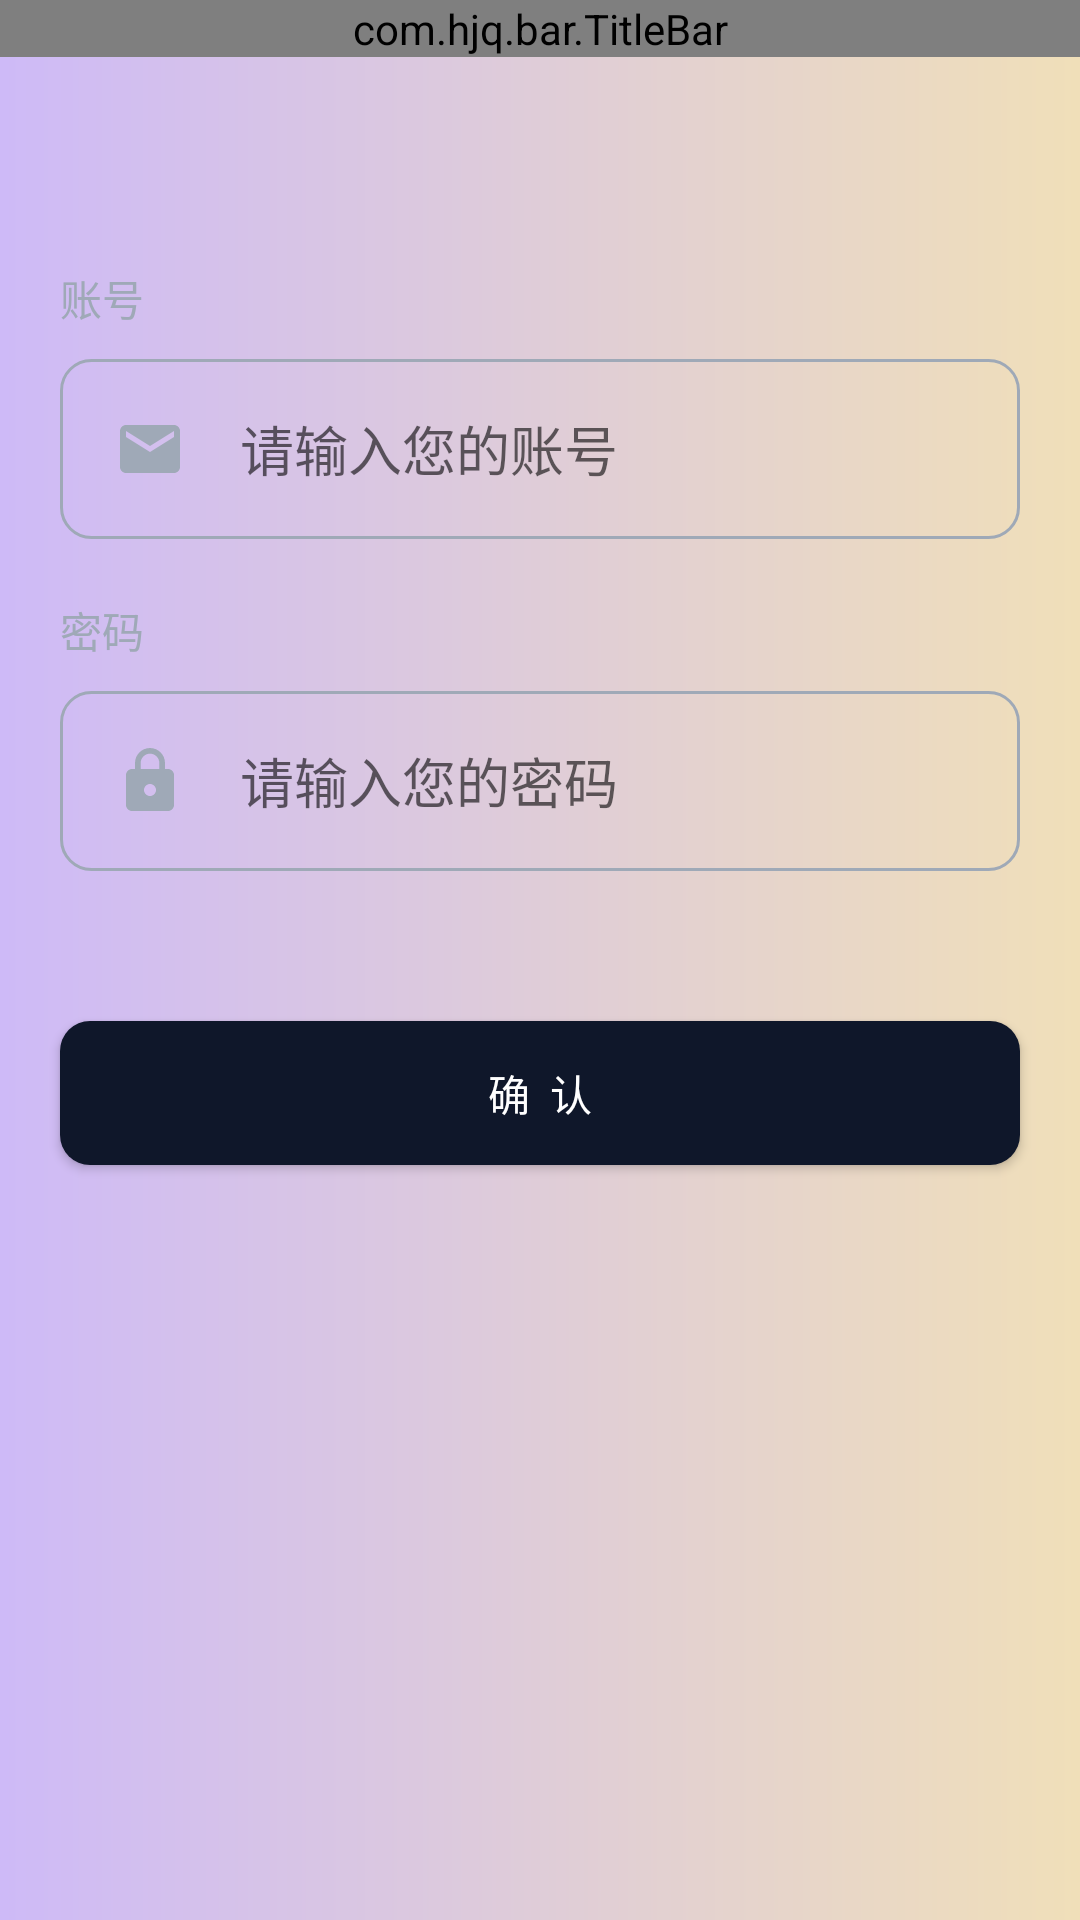

Where to tap for icons on this 1080×1920 app screen, as (x,y):
email: (150,449)
lock: (150,779)
